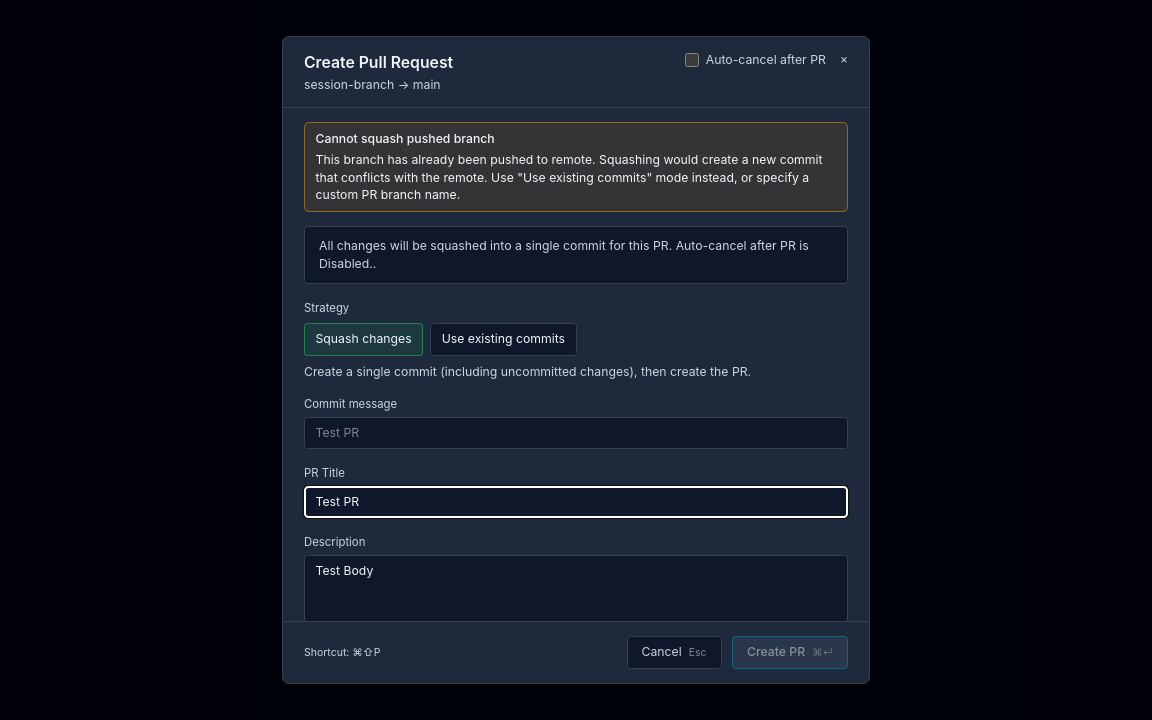
PrSessionModal › branch conflict validation › blocks submission when branch is pushed with uncommitted changes
Click the button "Use existing commits" at (503, 340), box [430,323,577,356]
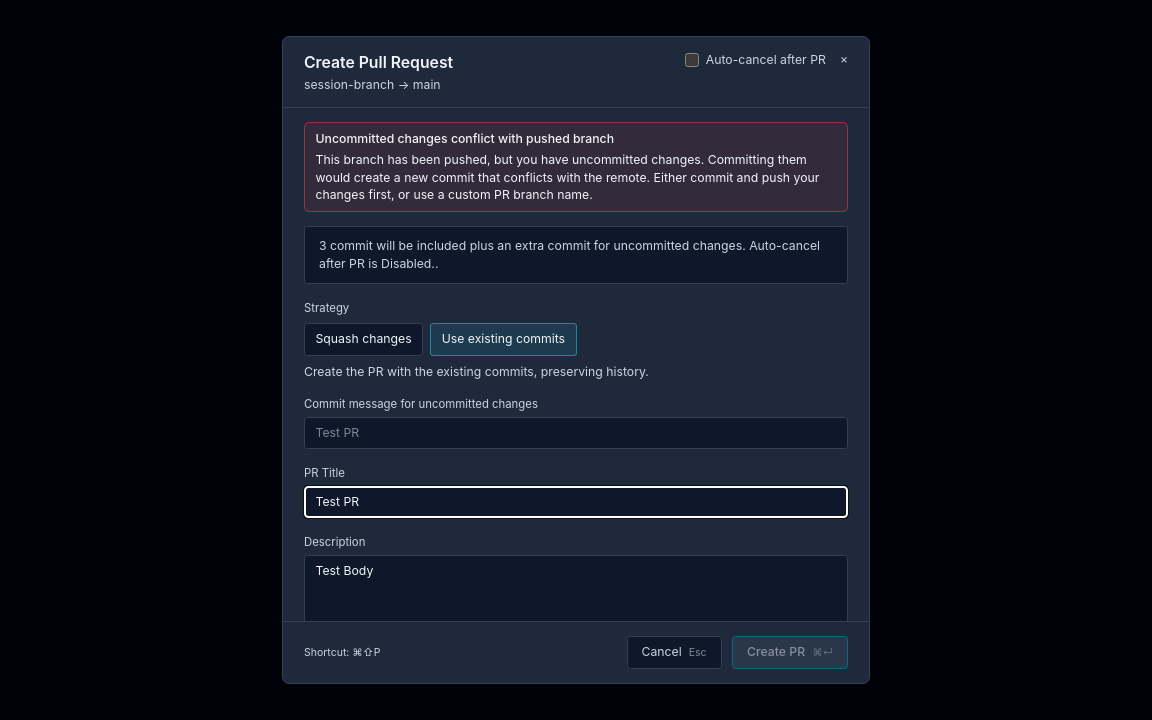
Expected: the button "Create PR ⌘↵" is disabled, [732,636,848,669]
Expected: the text "Uncommitted changes conflict with pushed branch" is shown, [316,131,614,146]
